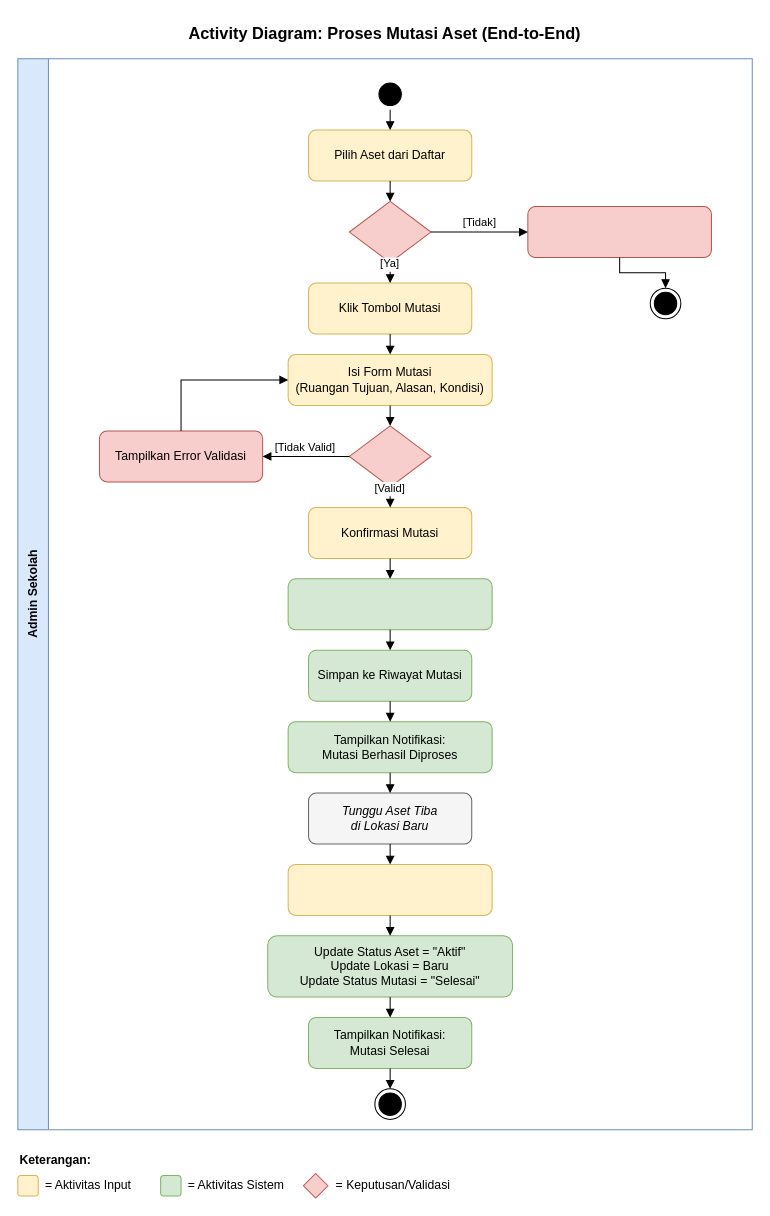
The diagram is 770 pixels wide and 1216 high, and some of its shapes have lost their labels. The centre of each missing label's shape, as x and y in pixels:
Form Valid?: the point at 389,456
Klik Konfirmasi Selesai (Setelah Aset Diterima): the point at 389,889
Status = Aktif?: the point at 389,231
Tampilkan Error: Aset Tidak Dapat Dimutasi: the point at 619,232
Update Status Aset = "Dalam Proses Mutasi": the point at 389,604
